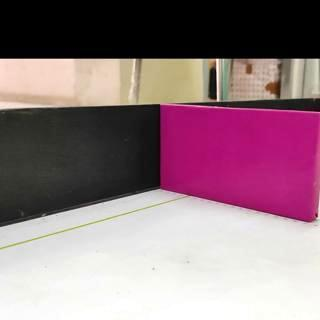xparking: (163, 113, 320, 210)
